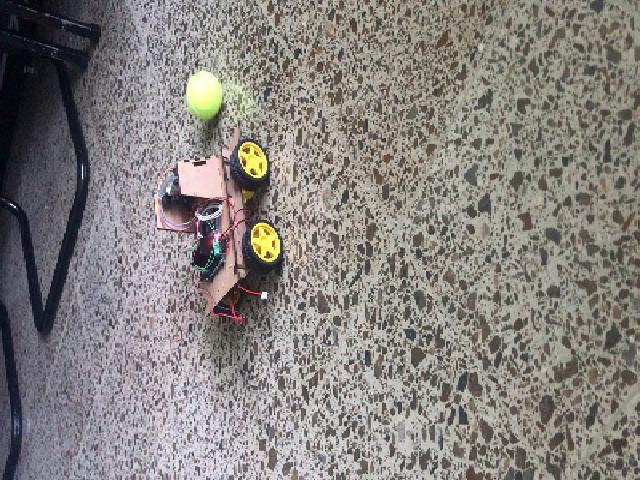Ball: (182, 72, 222, 121)
Robot: (155, 127, 286, 319)
